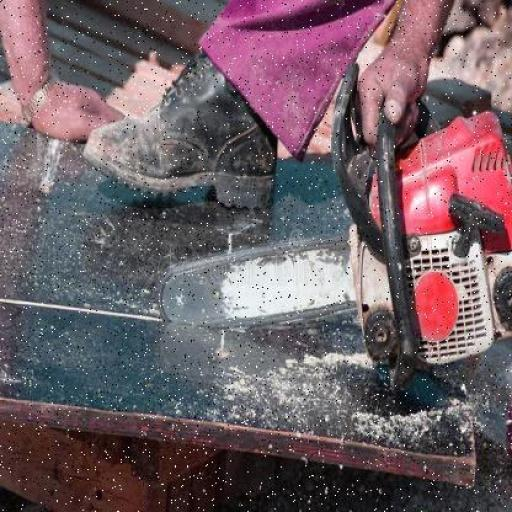safety_shoe: (96, 68, 270, 214)
